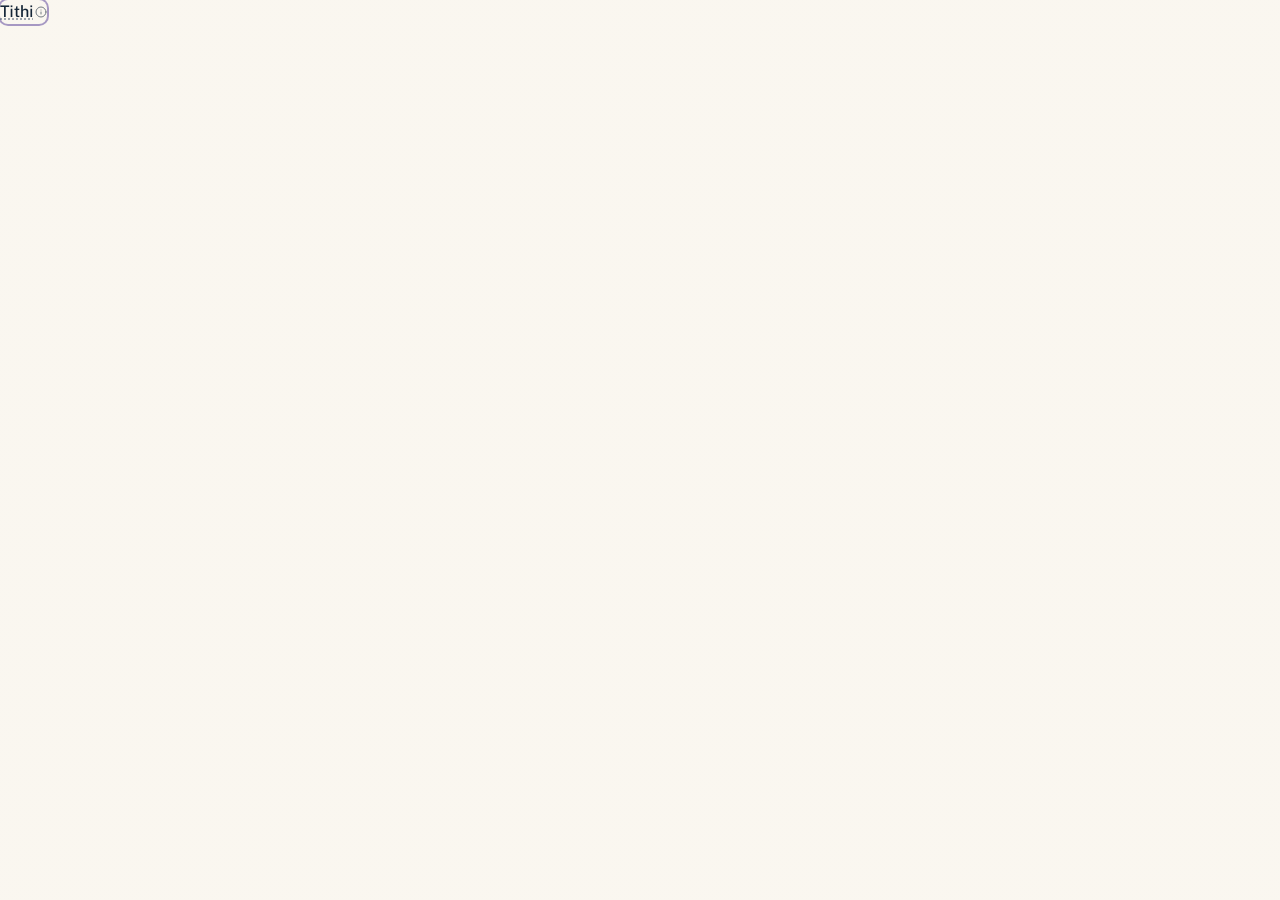
it: TermTip — accessible (i) popover › keyboard: the trigger is focusable and opens from the keyboard (Enter/Space fire click on a button)
The width and height of the screenshot is (1280, 900).
Click the button with test id "termtip-tithi": click(24, 12) [0, 0, 47, 24]
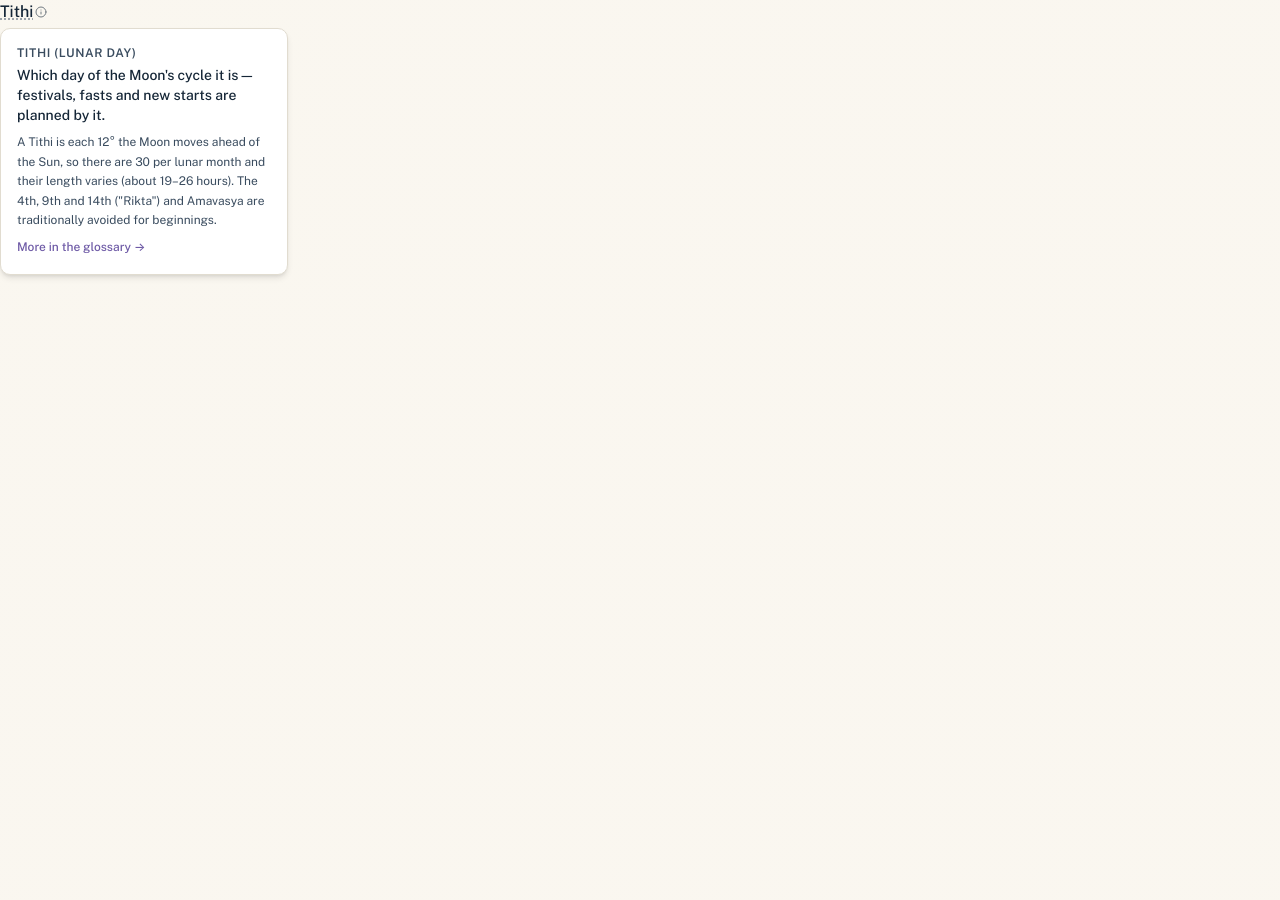
expect the dialog is shown: met, box [0, 28, 288, 274]
